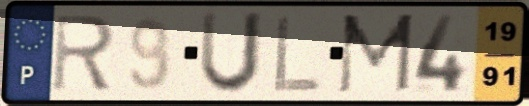4: (410, 12, 472, 96)
9: (126, 14, 177, 92)
L: (270, 13, 324, 95)
M: (334, 11, 417, 96)
R: (50, 12, 118, 95)
U: (195, 9, 267, 98)
